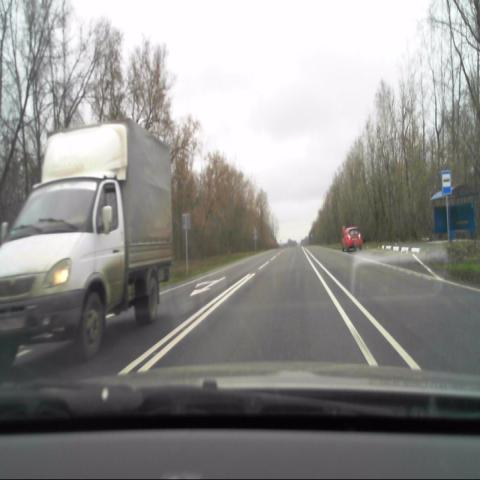5_16: (442, 168, 451, 194)
